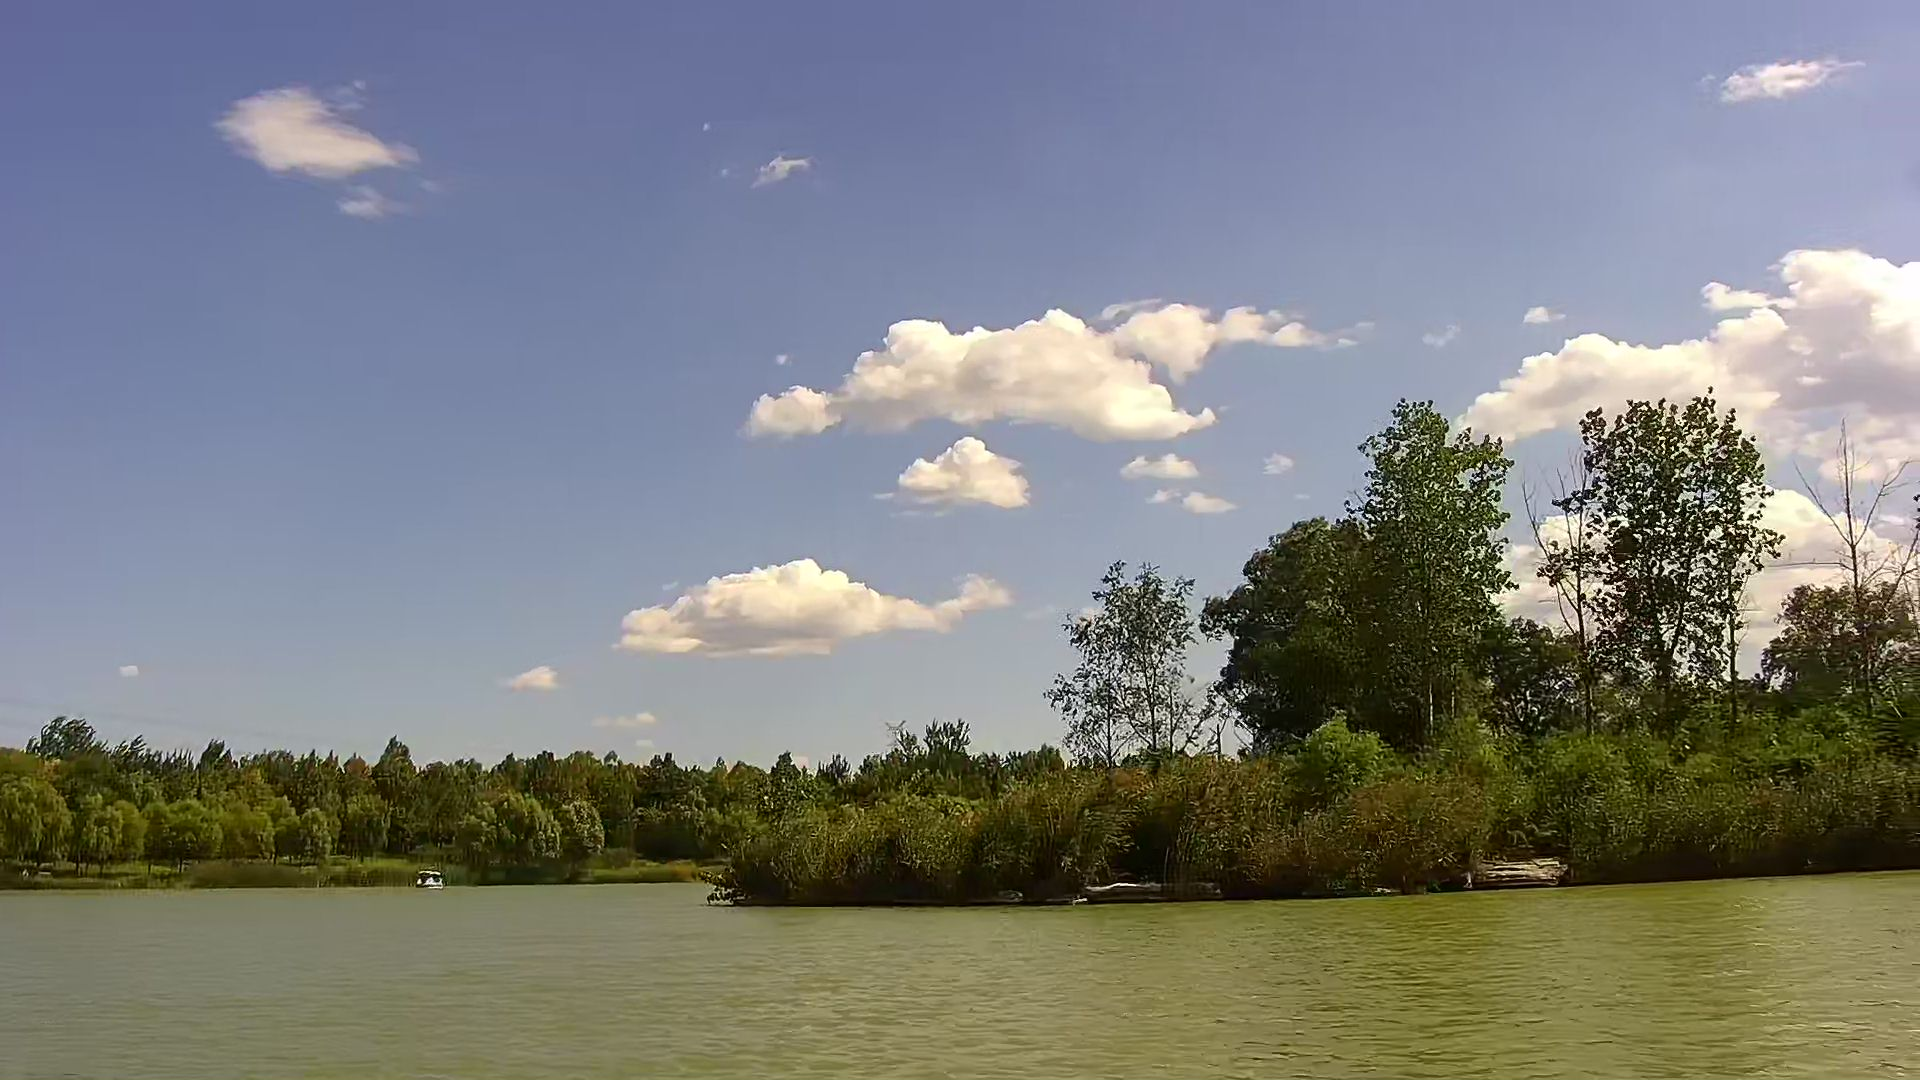boat: (409, 866, 448, 891)
